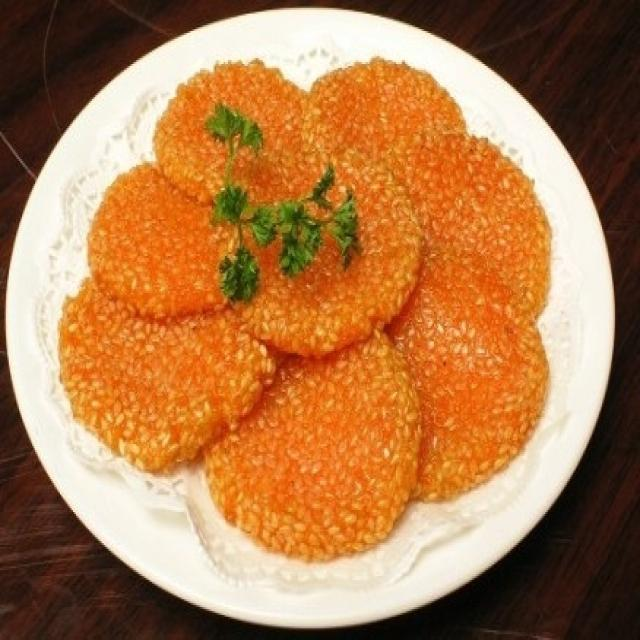炸货点心: (41, 42, 589, 588)
蛋糕甜品: (41, 42, 589, 588)
